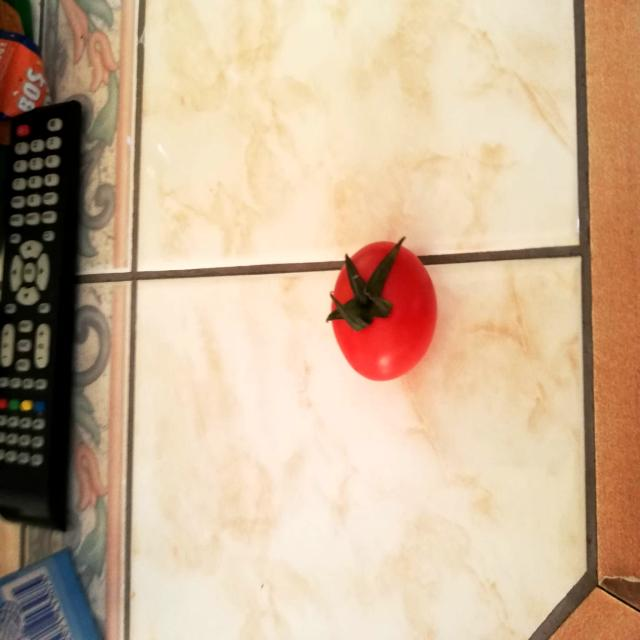tomato: (325, 232, 439, 386)
